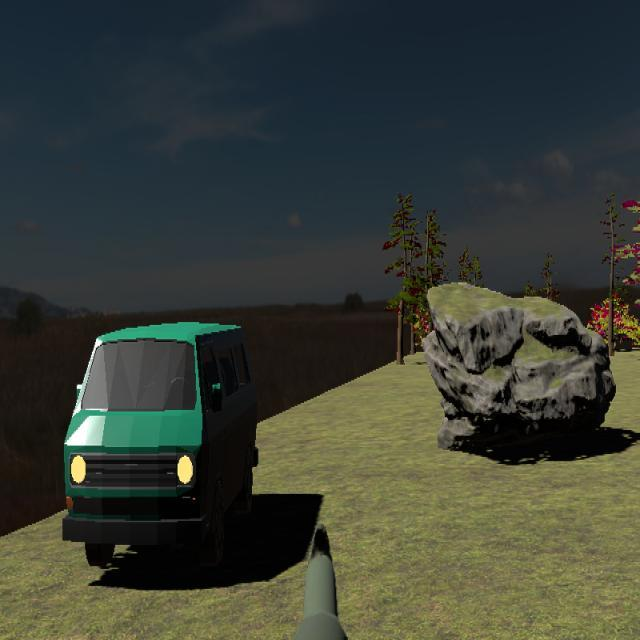car: (63, 321, 259, 571)
